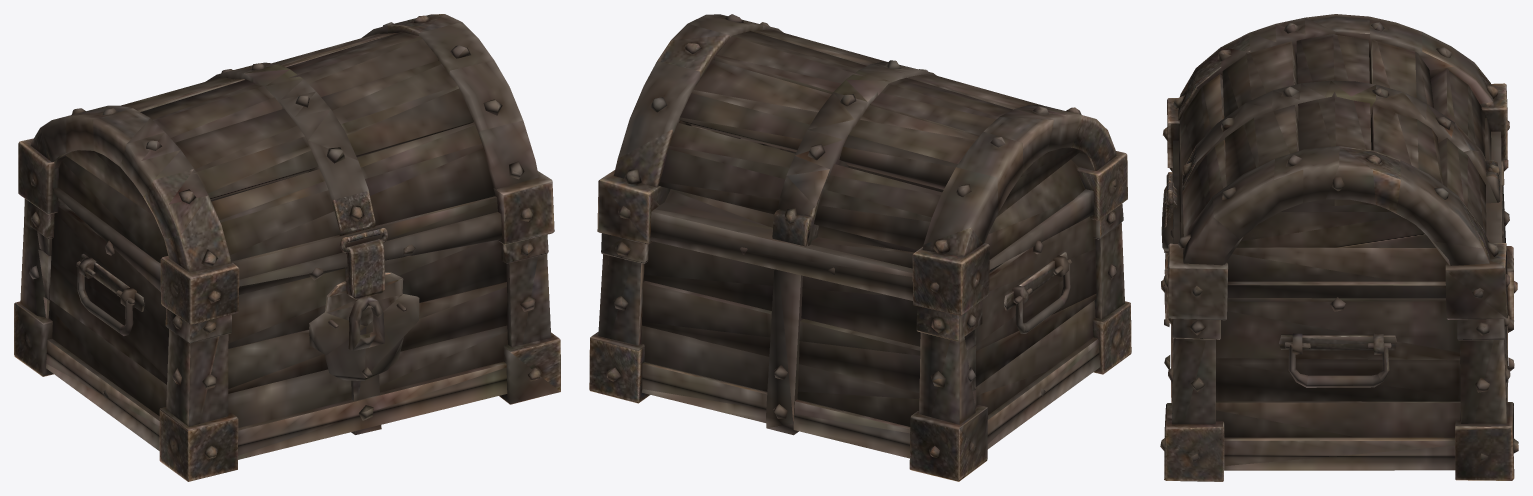
File: d_trunk_medium_A.glb
3 views of the same model, side by side, from view 1: azimuth 30°, elevation 25°; view 2: azimuth 150°, elevation 25°; view 3: azimuth 270°, elevation 25° (orthographic).
Visible parts, largest first — view 1: d_trunk_medium_A; view 2: d_trunk_medium_A; view 3: d_trunk_medium_A.
Boxes of the visible parts, bbox=[...] form: d_trunk_medium_A: bbox=[14, 14, 560, 481]; d_trunk_medium_A: bbox=[589, 14, 1131, 481]; d_trunk_medium_A: bbox=[1160, 14, 1518, 481].
Size of the model in its own units: 0.9125 by 0.7265 by 0.7607.
1 material, 1 textured.
